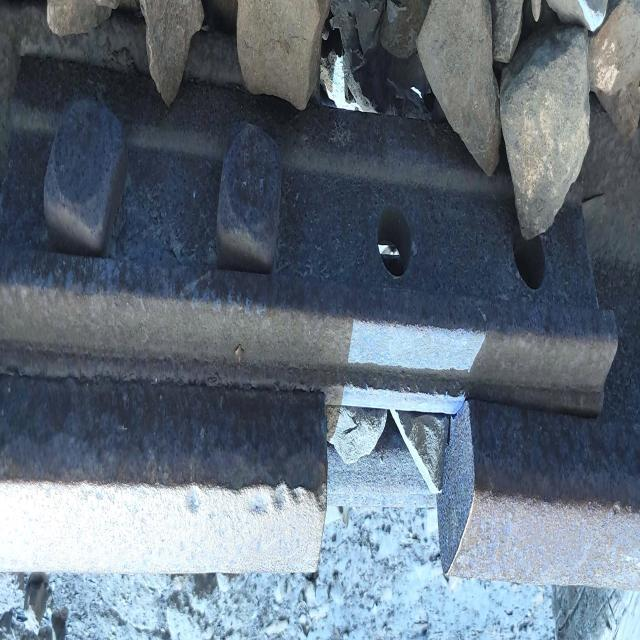Defective Joint: (1, 60, 615, 398)
